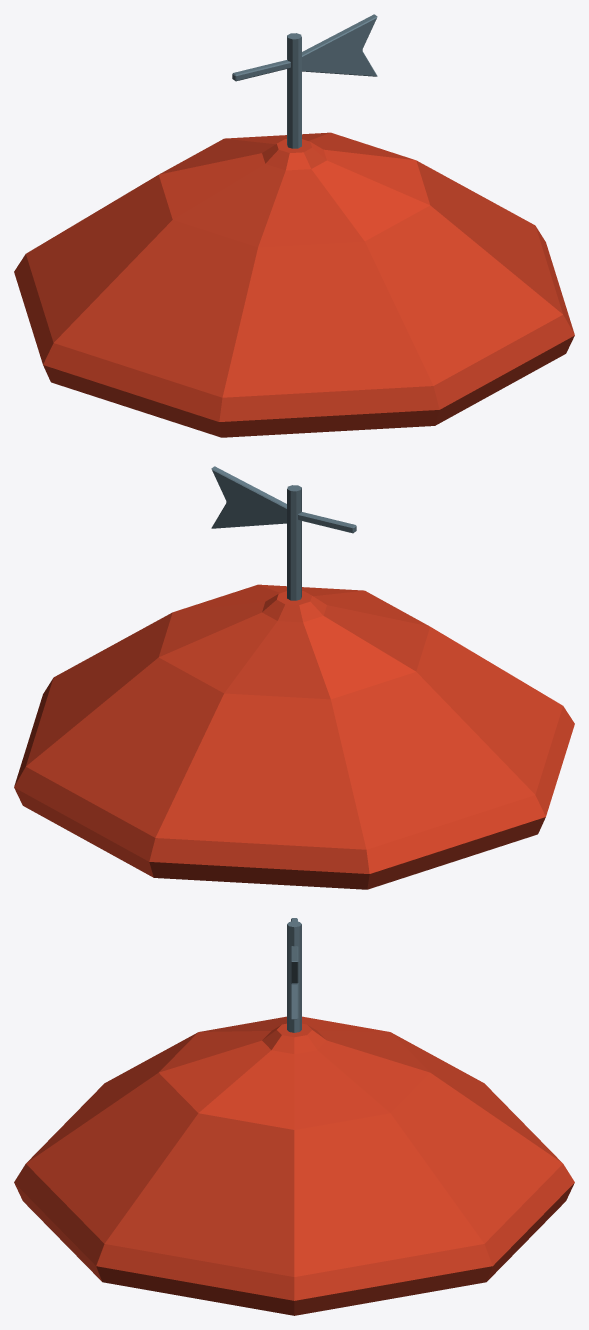
File: EM_BeaconRoof.fbx
The picture shows the model from 3 angles, top to bottom: view 1: azimuth 30°, elevation 25°; view 2: azimuth 150°, elevation 25°; view 3: azimuth 270°, elevation 25°; orthographic projection. The views are drawn at different scales.
Visible parts, largest first — view 1: EM_BeaconRoof; view 2: EM_BeaconRoof; view 3: EM_BeaconRoof.
Part boxes in pixels (x1,y1,x2,y2): EM_BeaconRoof: (14,14,574,437); EM_BeaconRoof: (14,466,574,889); EM_BeaconRoof: (14,918,574,1315).
Bounding box in the file's own units: 1.9 × 1.04 × 1.9.
